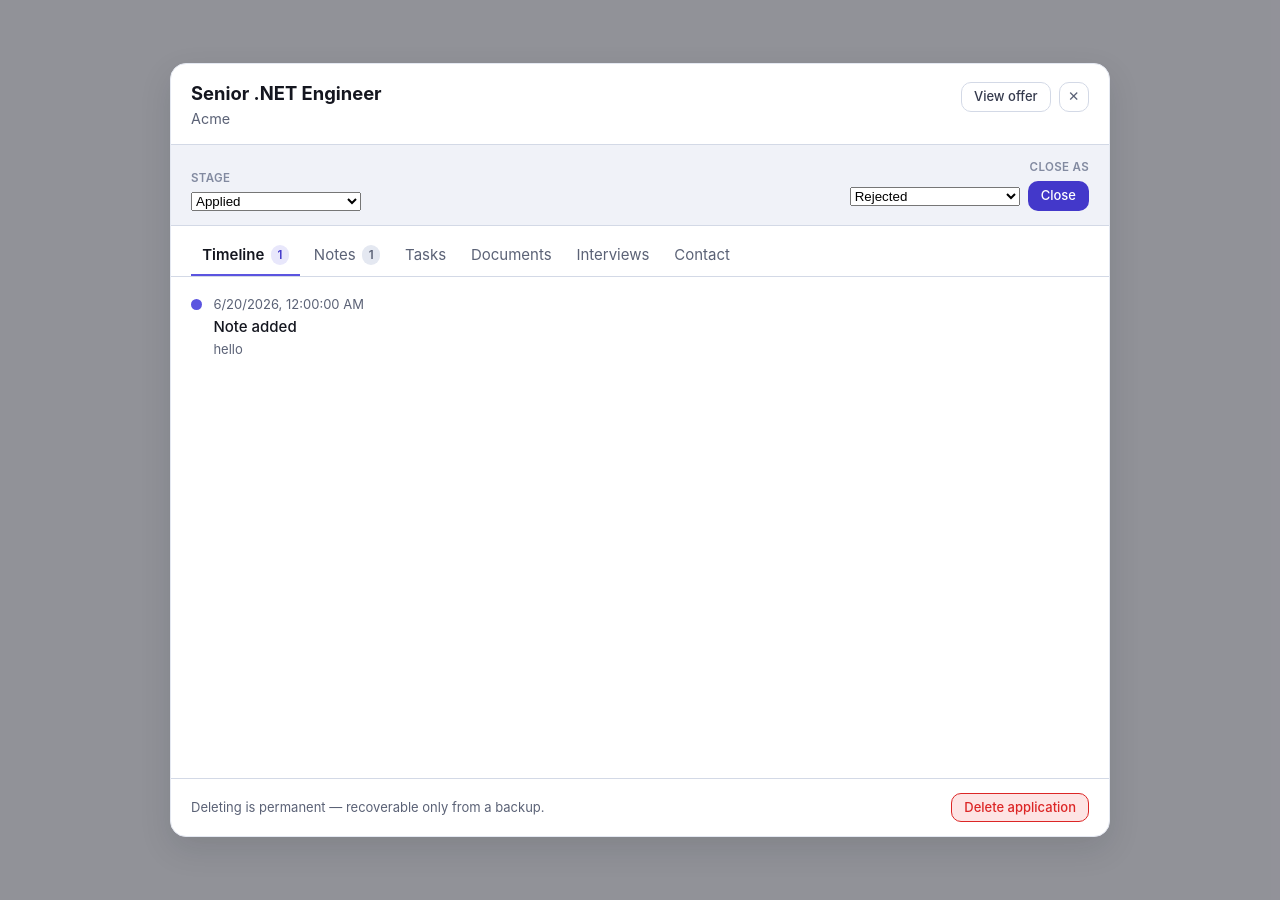
ApplicationDrawer tailored-CV link (Documents) › shows no tailored-CV row when the offer has none
Click the tab "Documents".
click(511, 256)  # box x1=460 y1=236 x2=563 y2=276
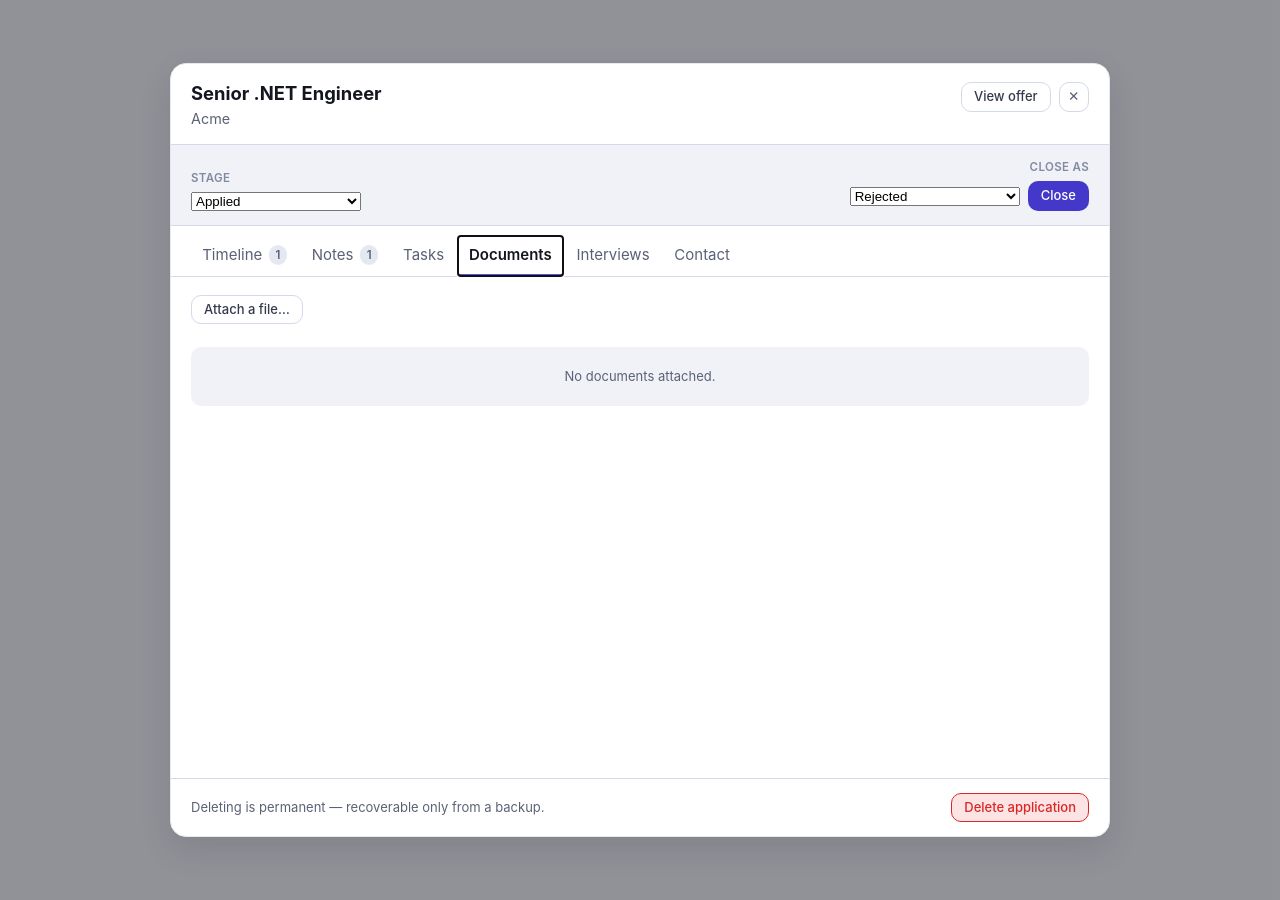
expect the text "No documents attached." is shown: met, box x1=191 y1=347 x2=1089 y2=406
